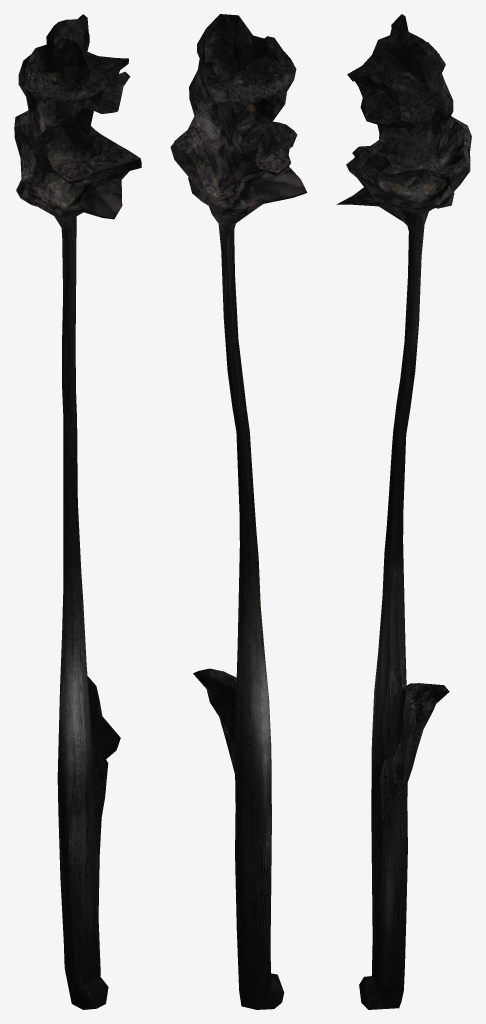
Rendered from trellis_result.glb.
3 views of the same model, side by side, from view 1: azimuth 90°, elevation 25°; view 2: azimuth 150°, elevation 25°; view 3: azimuth 330°, elevation 25° (orthographic).
Visible parts, largest first — view 1: world; view 2: world; view 3: world.
Part boxes in pixels (bbox=[...]): world: bbox=[14, 14, 141, 1009]; world: bbox=[170, 14, 307, 1009]; world: bbox=[336, 14, 471, 1009].
Bounding box in the file's own units: 0.1136 × 0.9838 × 0.116.
1 material, 1 textured.
